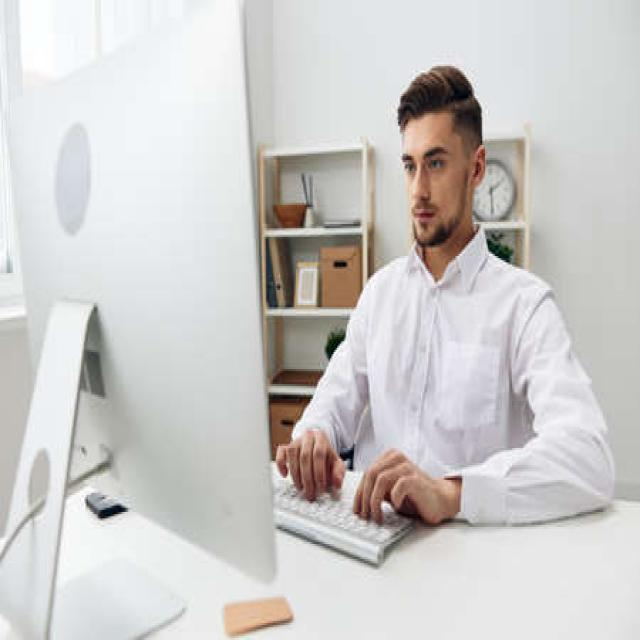desktop-person: (1, 3, 628, 591)
